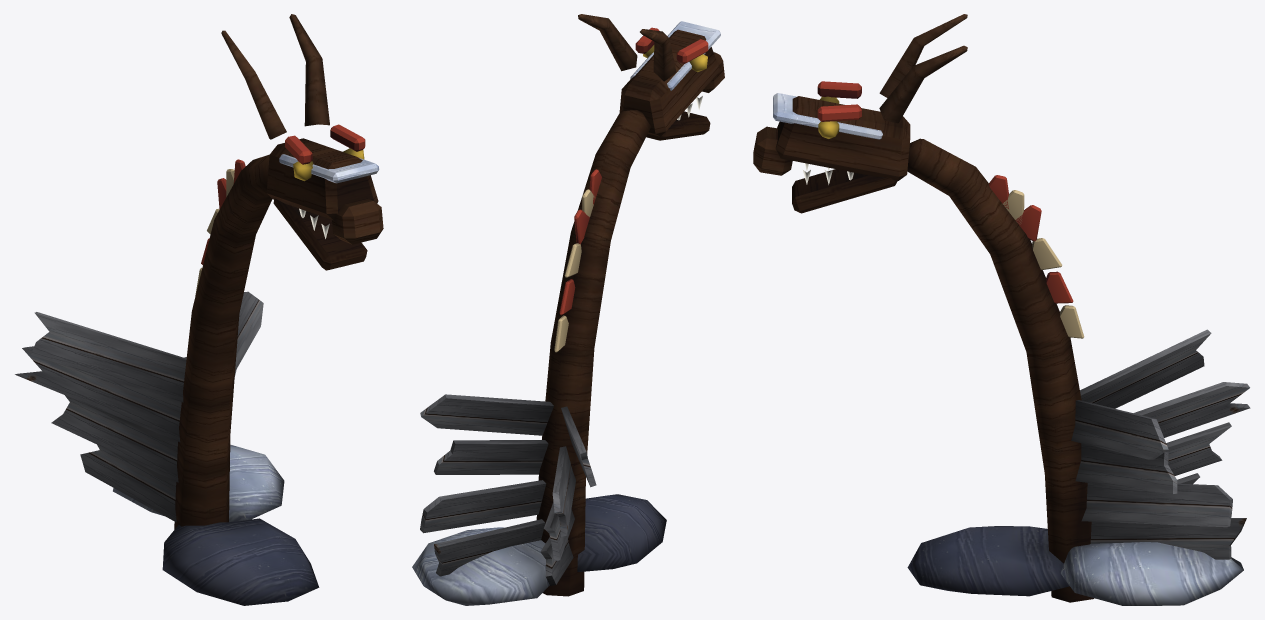
The model's file is rimeshore_longship_prow.glb.
3 renders of one model, left to right at view 1: azimuth 30°, elevation 25°; view 2: azimuth 150°, elevation 25°; view 3: azimuth 270°, elevation 25°, orthographic. The views are drawn at different scales.
Visible parts, largest first — view 1: rimeshore_longship_prow; view 2: rimeshore_longship_prow; view 3: rimeshore_longship_prow.
Boxes of the visible parts, box(x1,y1,x2,y2) form: rimeshore_longship_prow: box(15, 14, 383, 605); rimeshore_longship_prow: box(412, 14, 724, 605); rimeshore_longship_prow: box(753, 14, 1250, 605).
Size of the model in its own units: 1.67 by 4.36 by 3.49.
5 materials, 4 textured.
